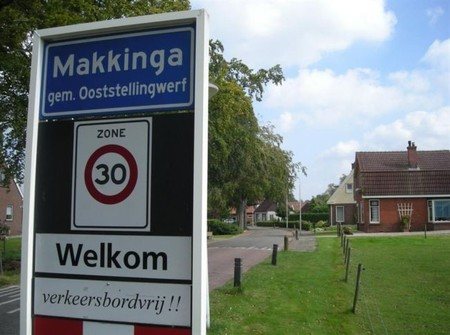Cartel: (40, 27, 192, 116), (72, 121, 152, 234), (34, 277, 191, 325), (34, 233, 191, 280)
